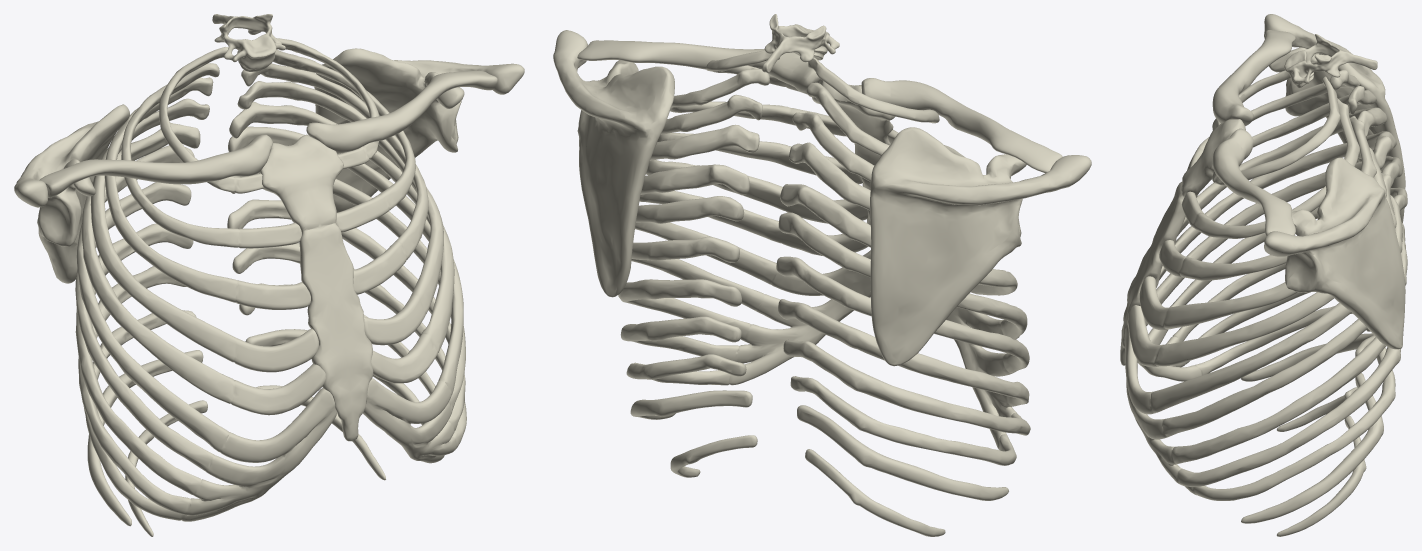
File: tulangdada.fbx
3 views of the same model, side by side, from view 1: azimuth 30°, elevation 25°; view 2: azimuth 150°, elevation 25°; view 3: azimuth 270°, elevation 25° (orthographic). The views are drawn at different scales.
Visible parts, largest first — view 1: Skeleton; view 2: Skeleton; view 3: Skeleton.
Part boxes in pixels (<box>): Skeleton: <box>14,14,524,536</box>; Skeleton: <box>553,14,1091,536</box>; Skeleton: <box>1120,14,1407,536</box>.
Bounding box in the file's own units: 428 × 385 × 228.
